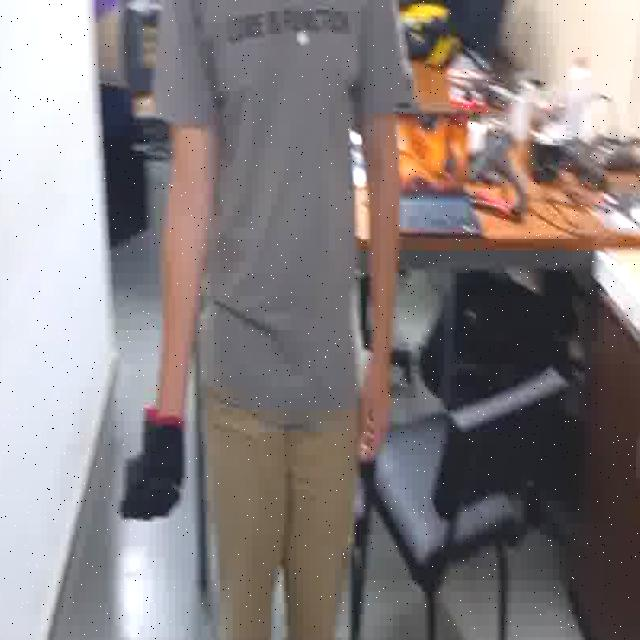Gloves: (120, 407, 185, 526)
